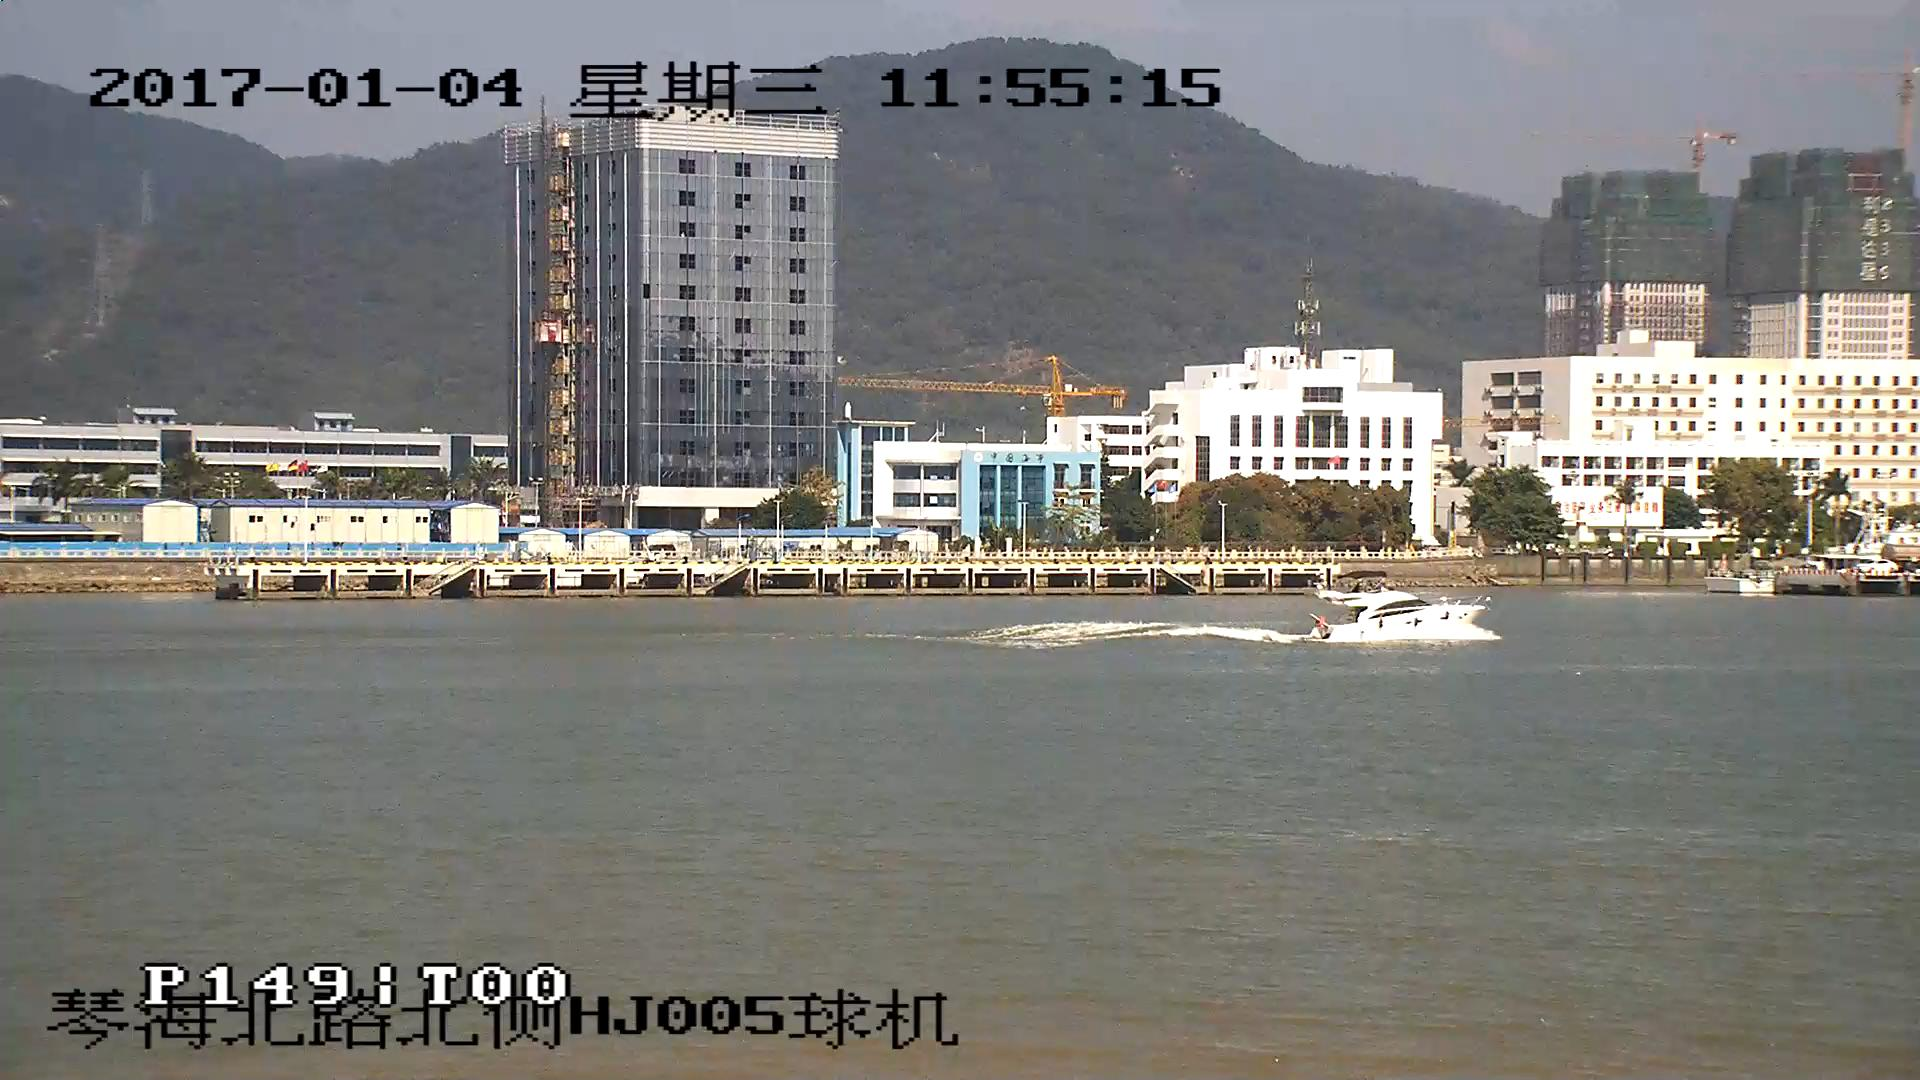passenger ship: (1318, 590, 1484, 650)
